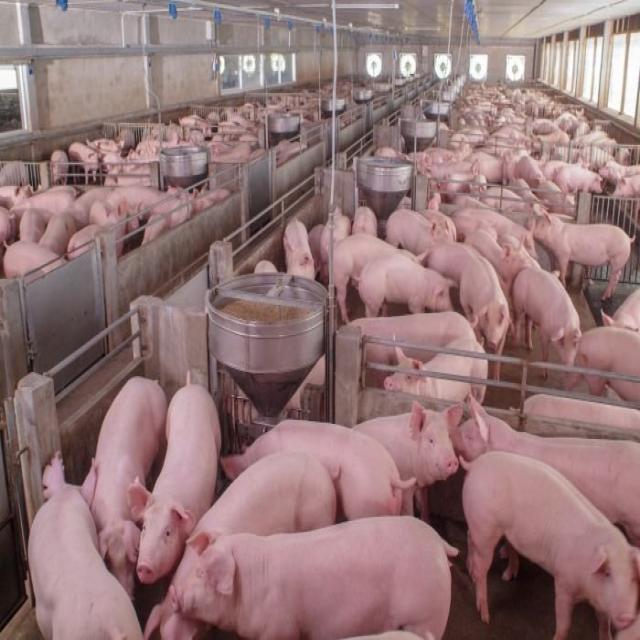Pig: (172, 513, 472, 640), (459, 438, 640, 640), (26, 454, 140, 640), (126, 370, 220, 589), (529, 202, 639, 304), (352, 401, 464, 501), (346, 233, 460, 323), (516, 247, 588, 365), (451, 243, 516, 351), (554, 166, 605, 196), (66, 143, 102, 181)
